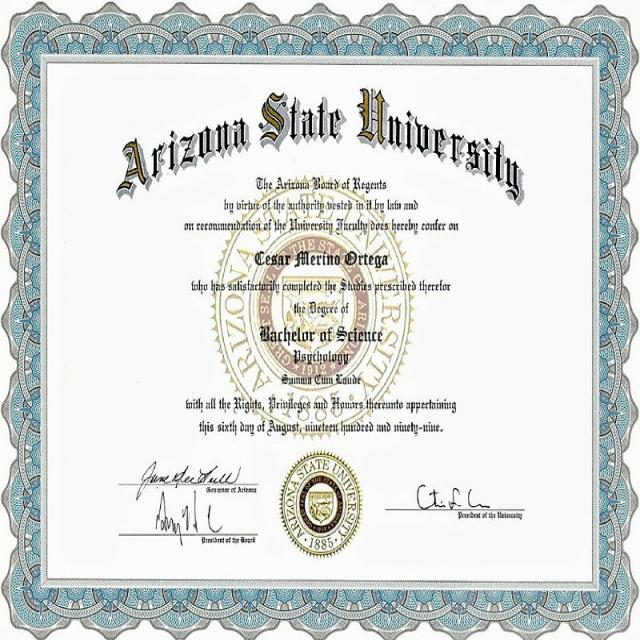degree: (256, 322, 395, 366)
signature: (140, 468, 260, 545), (418, 476, 525, 528)
stamp: (281, 449, 364, 564)
